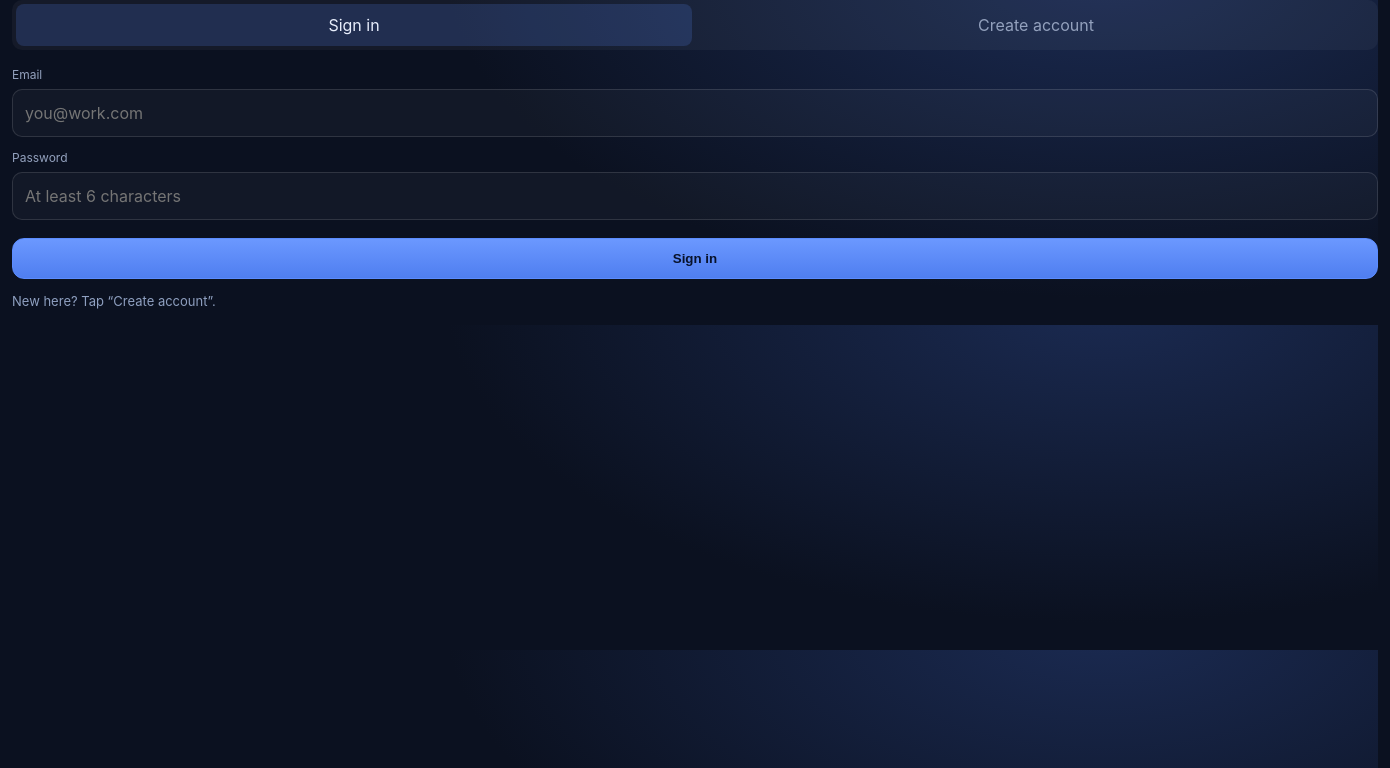
Test: AuthForm › rejects a too-short password
This screenshot has width=1390, height=768.
Type "a@b.com" into the field with placeholder "you@work.com" at point(695, 113), box [12,89,1378,137]
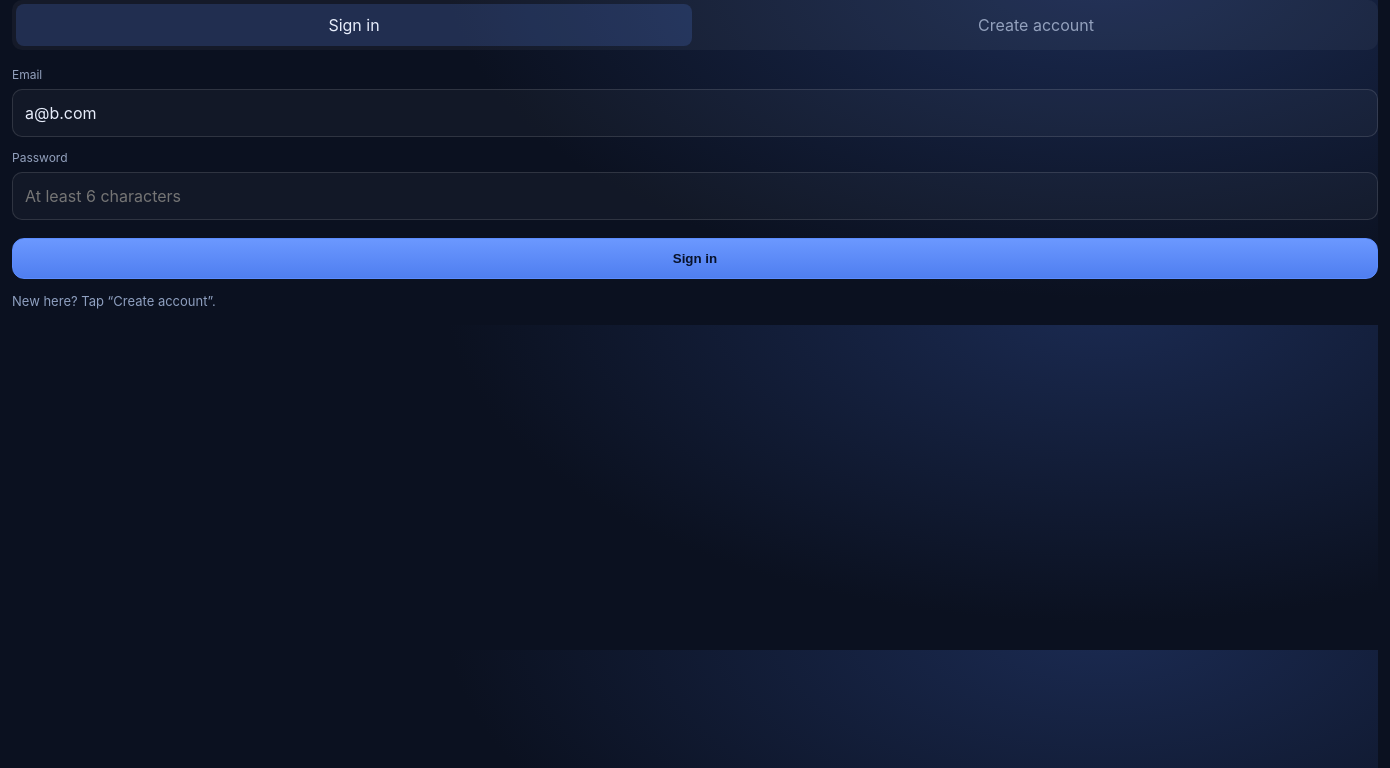
Type "123" into the password field with placeholder "At least 6 characters" at point(695, 196), box [12,172,1378,220]
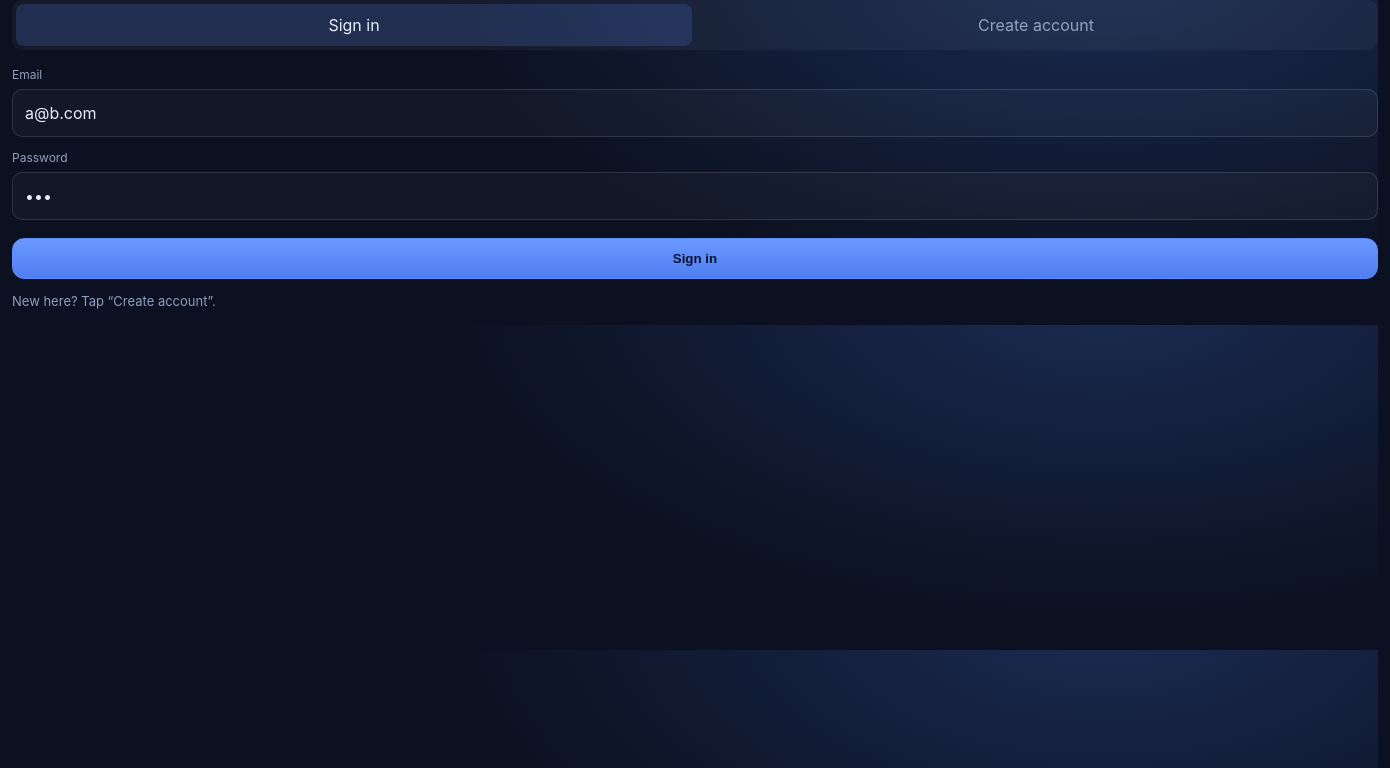
Submit the form with class "auth-form", box [12,0,1378,312]
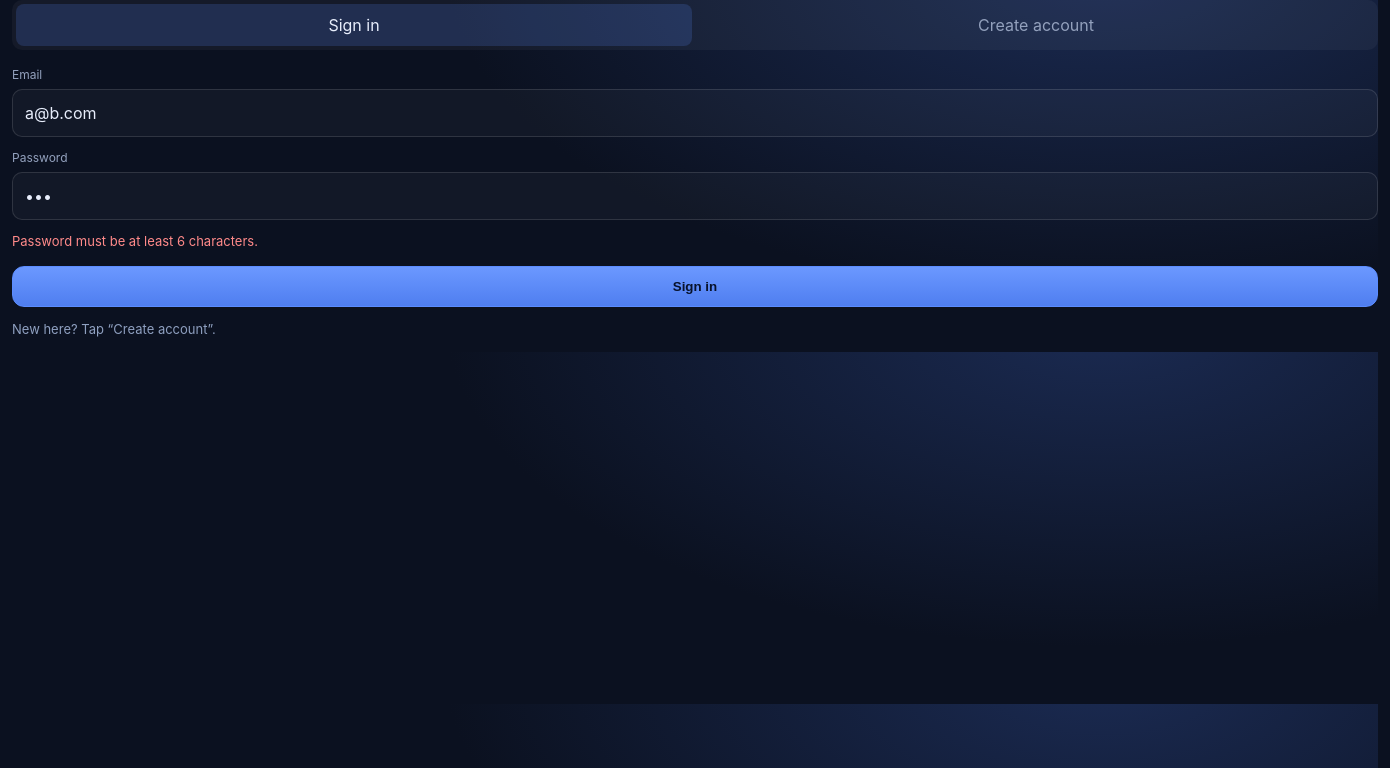
Result: the text "Password must be at least 6 characters." is shown at [12,233,258,249]
